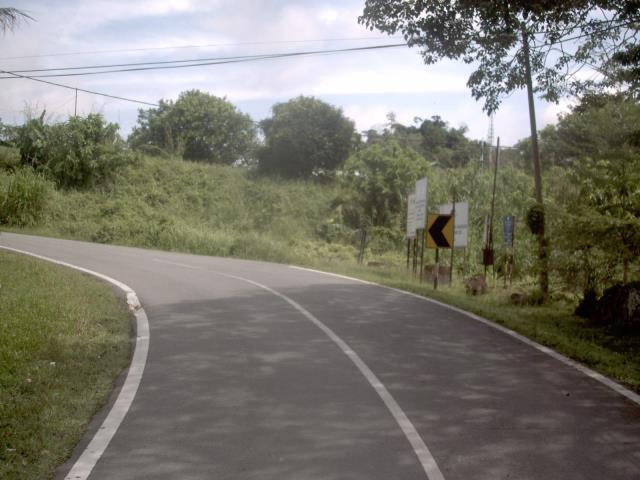traffic_sign: (417, 206, 461, 258)
